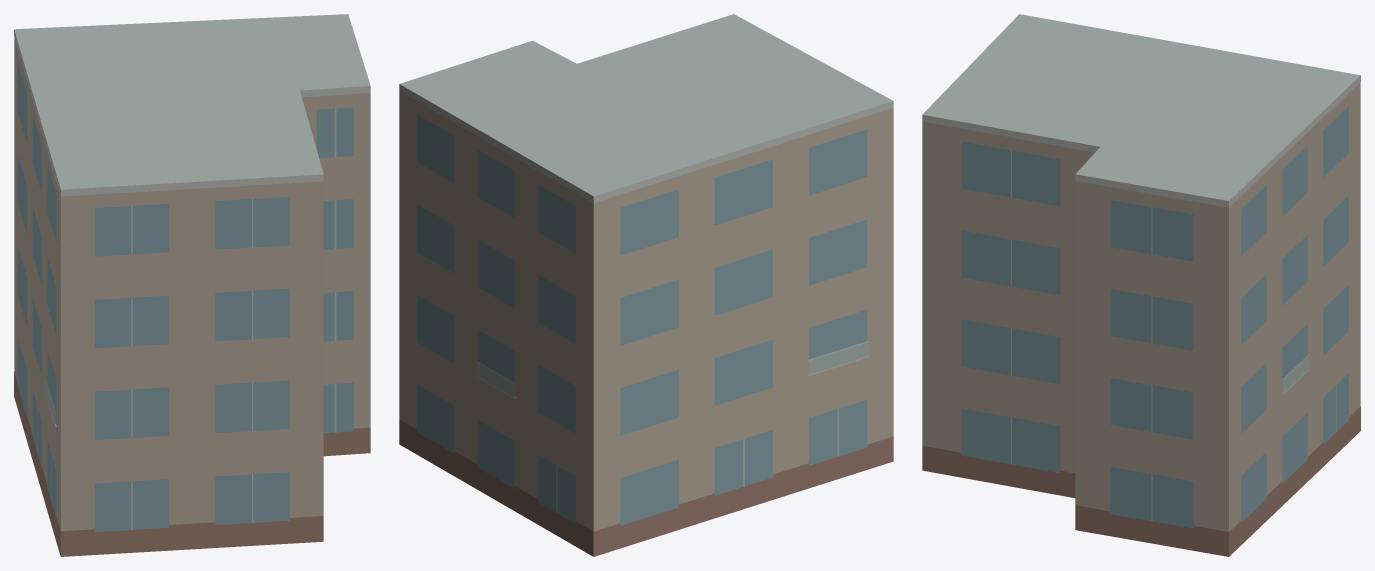
Rendered from survey-upis-32524306.glb.
3 views of the same model, side by side, from view 1: azimuth 30°, elevation 25°; view 2: azimuth 150°, elevation 25°; view 3: azimuth 270°, elevation 25° (orthographic). The views are drawn at different scales.
Parts seen in each view (by area): view 1: survey-upis-32524306.tmp; view 2: survey-upis-32524306.tmp; view 3: survey-upis-32524306.tmp.
Boxes of the visible parts, <box> form: survey-upis-32524306.tmp: <box>14,14,370,556</box>; survey-upis-32524306.tmp: <box>399,14,893,556</box>; survey-upis-32524306.tmp: <box>922,14,1360,556</box>.
Size of the model in its own units: 14.67 by 13 by 14.53.
